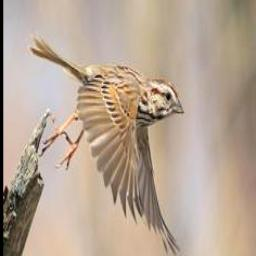Sparrow: (25, 21, 183, 256)
